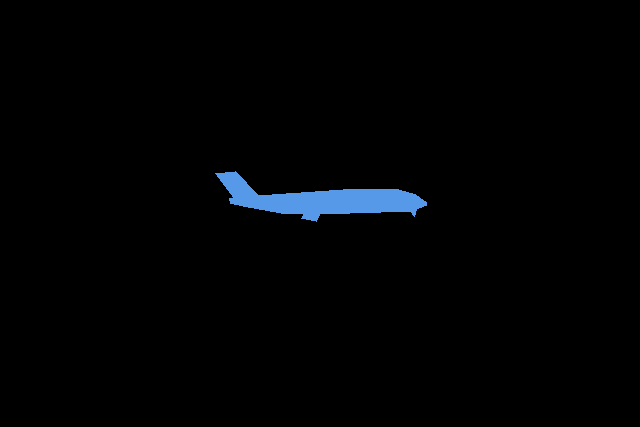Airplane: (215, 171, 427, 222)
